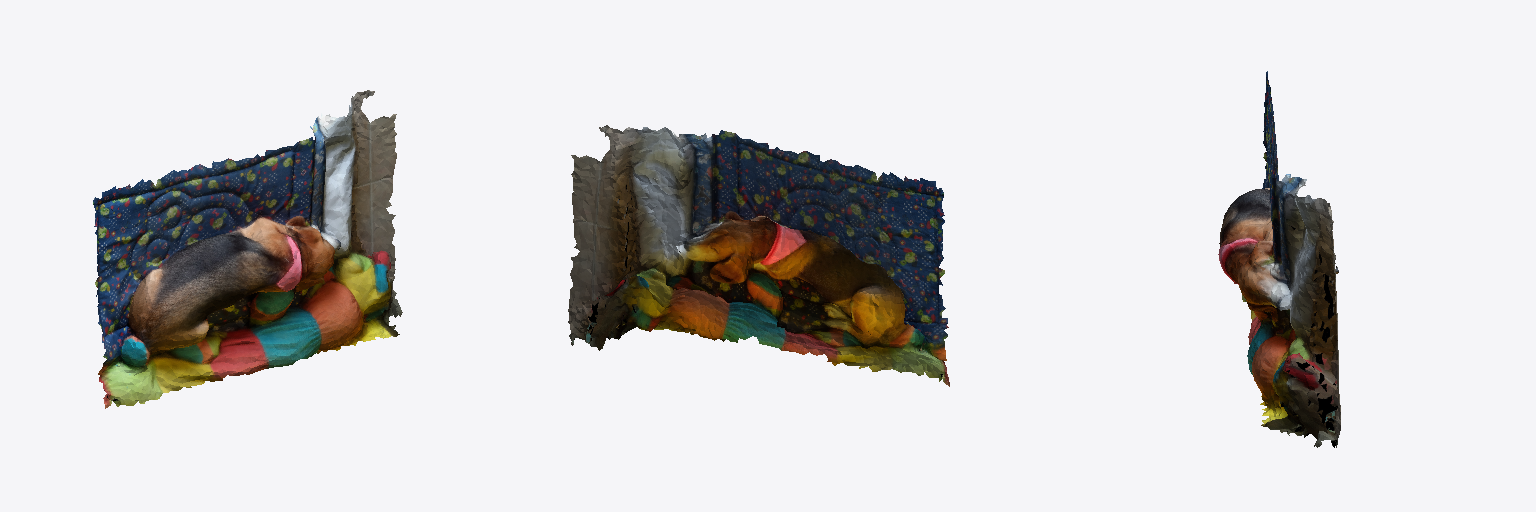
3 renders of one model, left to right at view 1: azimuth 30°, elevation 25°; view 2: azimuth 150°, elevation 25°; view 3: azimuth 270°, elevation 25°, orthographic.
Bounding box in the file's own units: 55.44 × 36.04 × 17.39.
Materials: 1 (1 with a texture image).